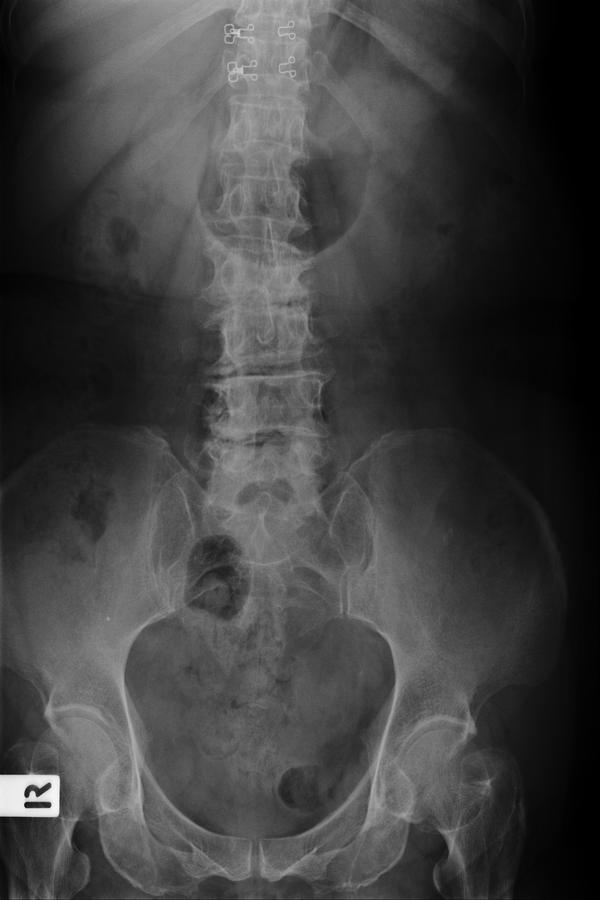not lumbar scoliosis: (203, 163, 322, 536)
